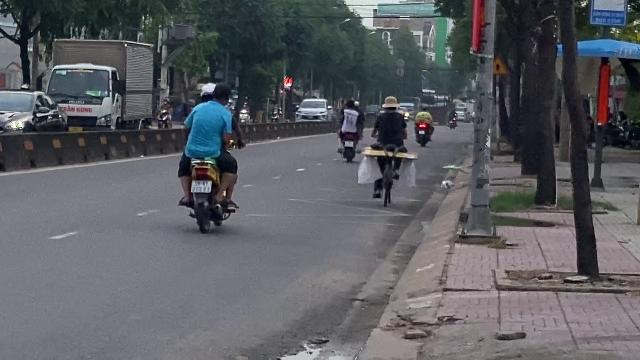helmet: (198, 82, 216, 102)
licenseplate: (192, 180, 212, 192)
motorcyclist: (173, 82, 240, 232)
nohelmet: (213, 82, 231, 102)
